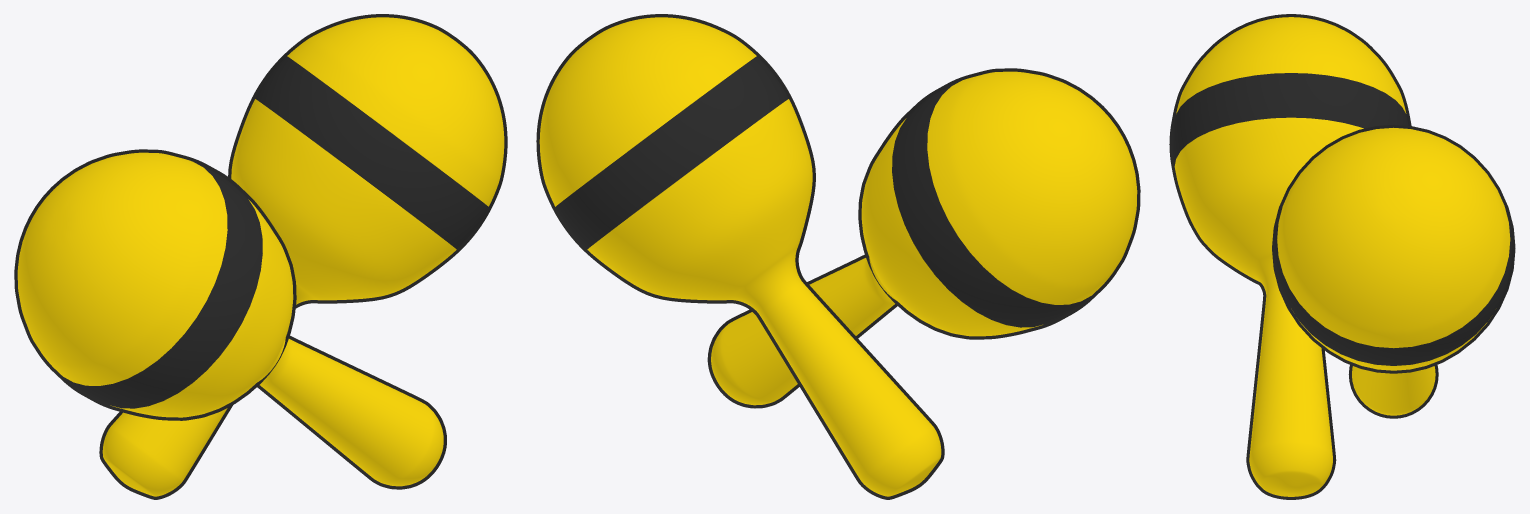
The model's file is Maracas.glb.
3 views of the same model, side by side, from view 1: azimuth 30°, elevation 25°; view 2: azimuth 150°, elevation 25°; view 3: azimuth 270°, elevation 25° (orthographic). The views are drawn at different scales.
Parts seen in each view (by area): view 1: MARACA.002, MARACA; view 2: MARACA, MARACA.002; view 3: MARACA, MARACA.002.
Part boxes in pixels (bbox=[...]): MARACA.002: bbox=[14, 149, 446, 489]; MARACA: bbox=[99, 14, 507, 499]; MARACA: bbox=[536, 14, 944, 499]; MARACA.002: bbox=[707, 68, 1140, 408]; MARACA: bbox=[1272, 124, 1515, 418]; MARACA.002: bbox=[1169, 14, 1411, 499].
Size of the model in its own units: 1.77 by 1.36 by 1.12.
